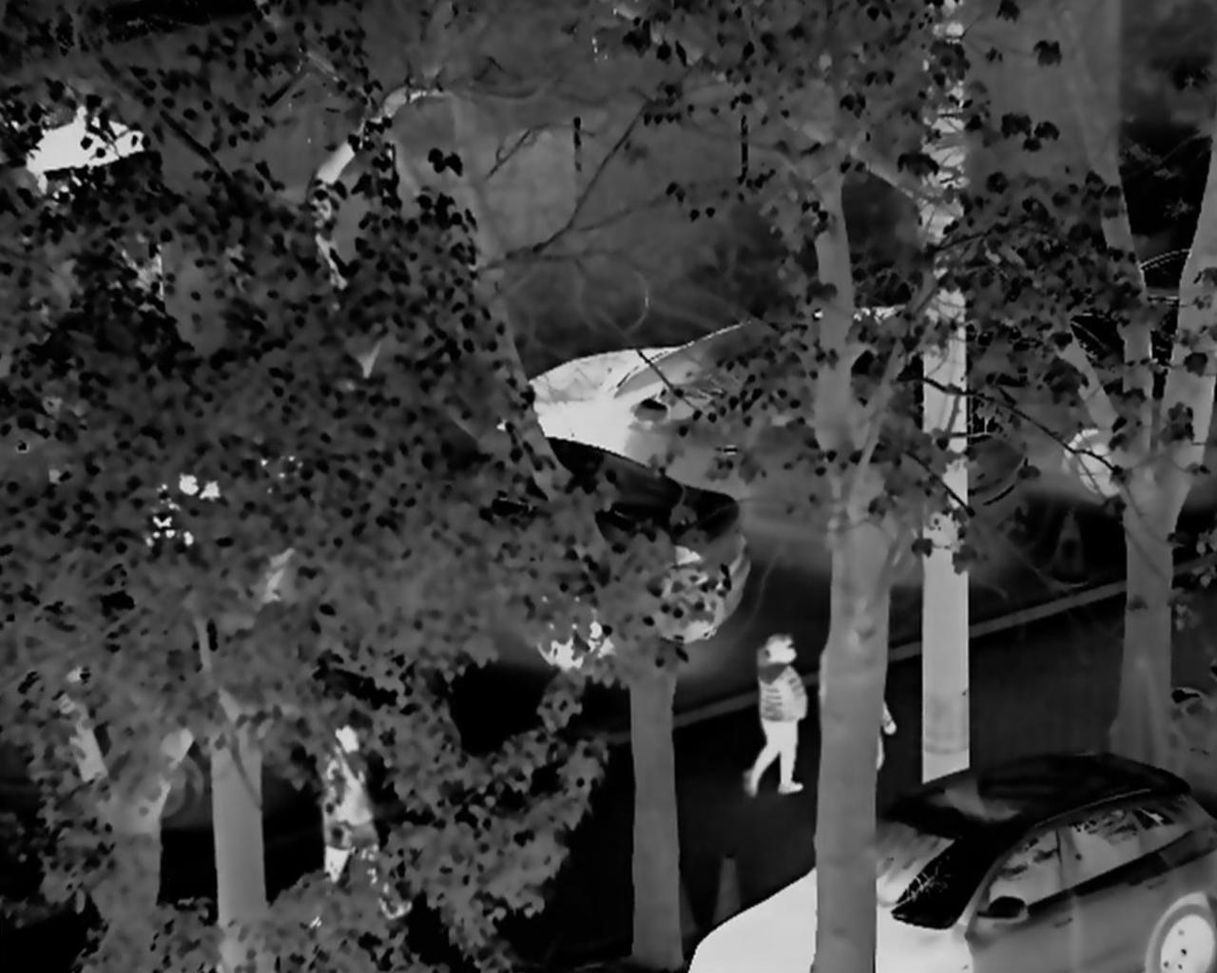person: (312, 726, 408, 930), (742, 626, 814, 803)
